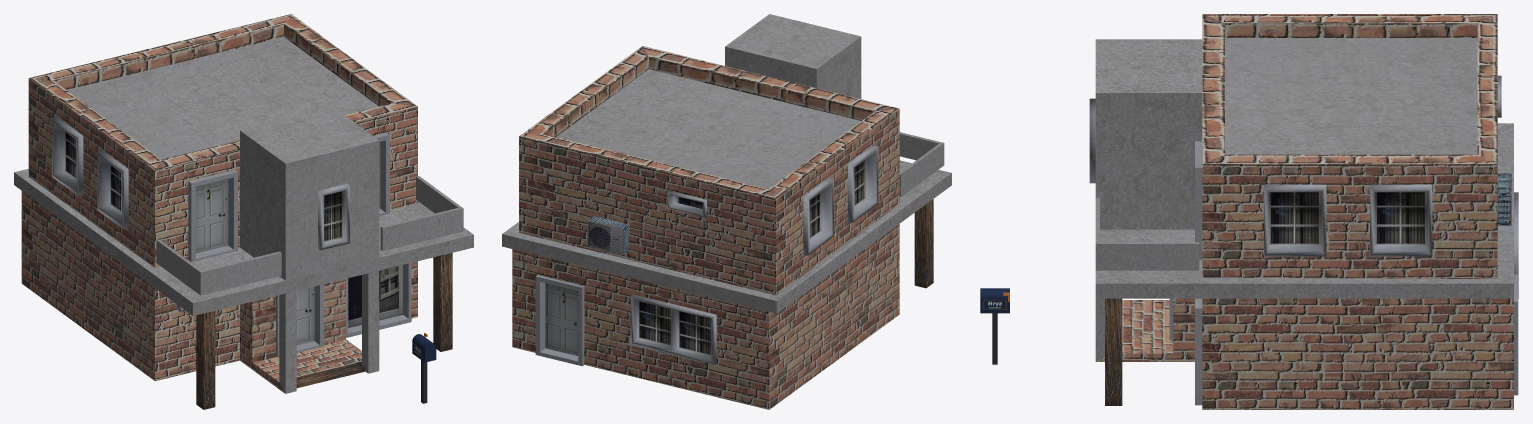
The model's file is casa5-a.glb.
3 views of the same model, side by side, from view 1: azimuth 30°, elevation 25°; view 2: azimuth 150°, elevation 25°; view 3: azimuth 270°, elevation 25° (orthographic). The views are drawn at different scales.
Parts seen in each view (by area): view 1: Casa, CaixaCorreio; view 2: Casa; view 3: Casa, CaixaCorreio.
Boxes of the visible parts, left/top/right/bottom form: Casa: left=14, top=14, right=473, bottom=409; CaixaCorreio: left=412, top=333, right=436, bottom=403; Casa: left=502, top=14, right=951, bottom=409; Casa: left=1089, top=14, right=1518, bottom=409; CaixaCorreio: left=980, top=288, right=1009, bottom=364.
Bounding box in the file's own units: 6.4 × 5.03 × 9.1.
Materials: 5 (2 with a texture image).
